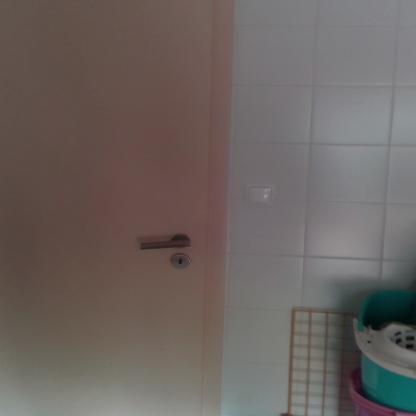door: (0, 0, 206, 415)
lever: (136, 236, 193, 252)
